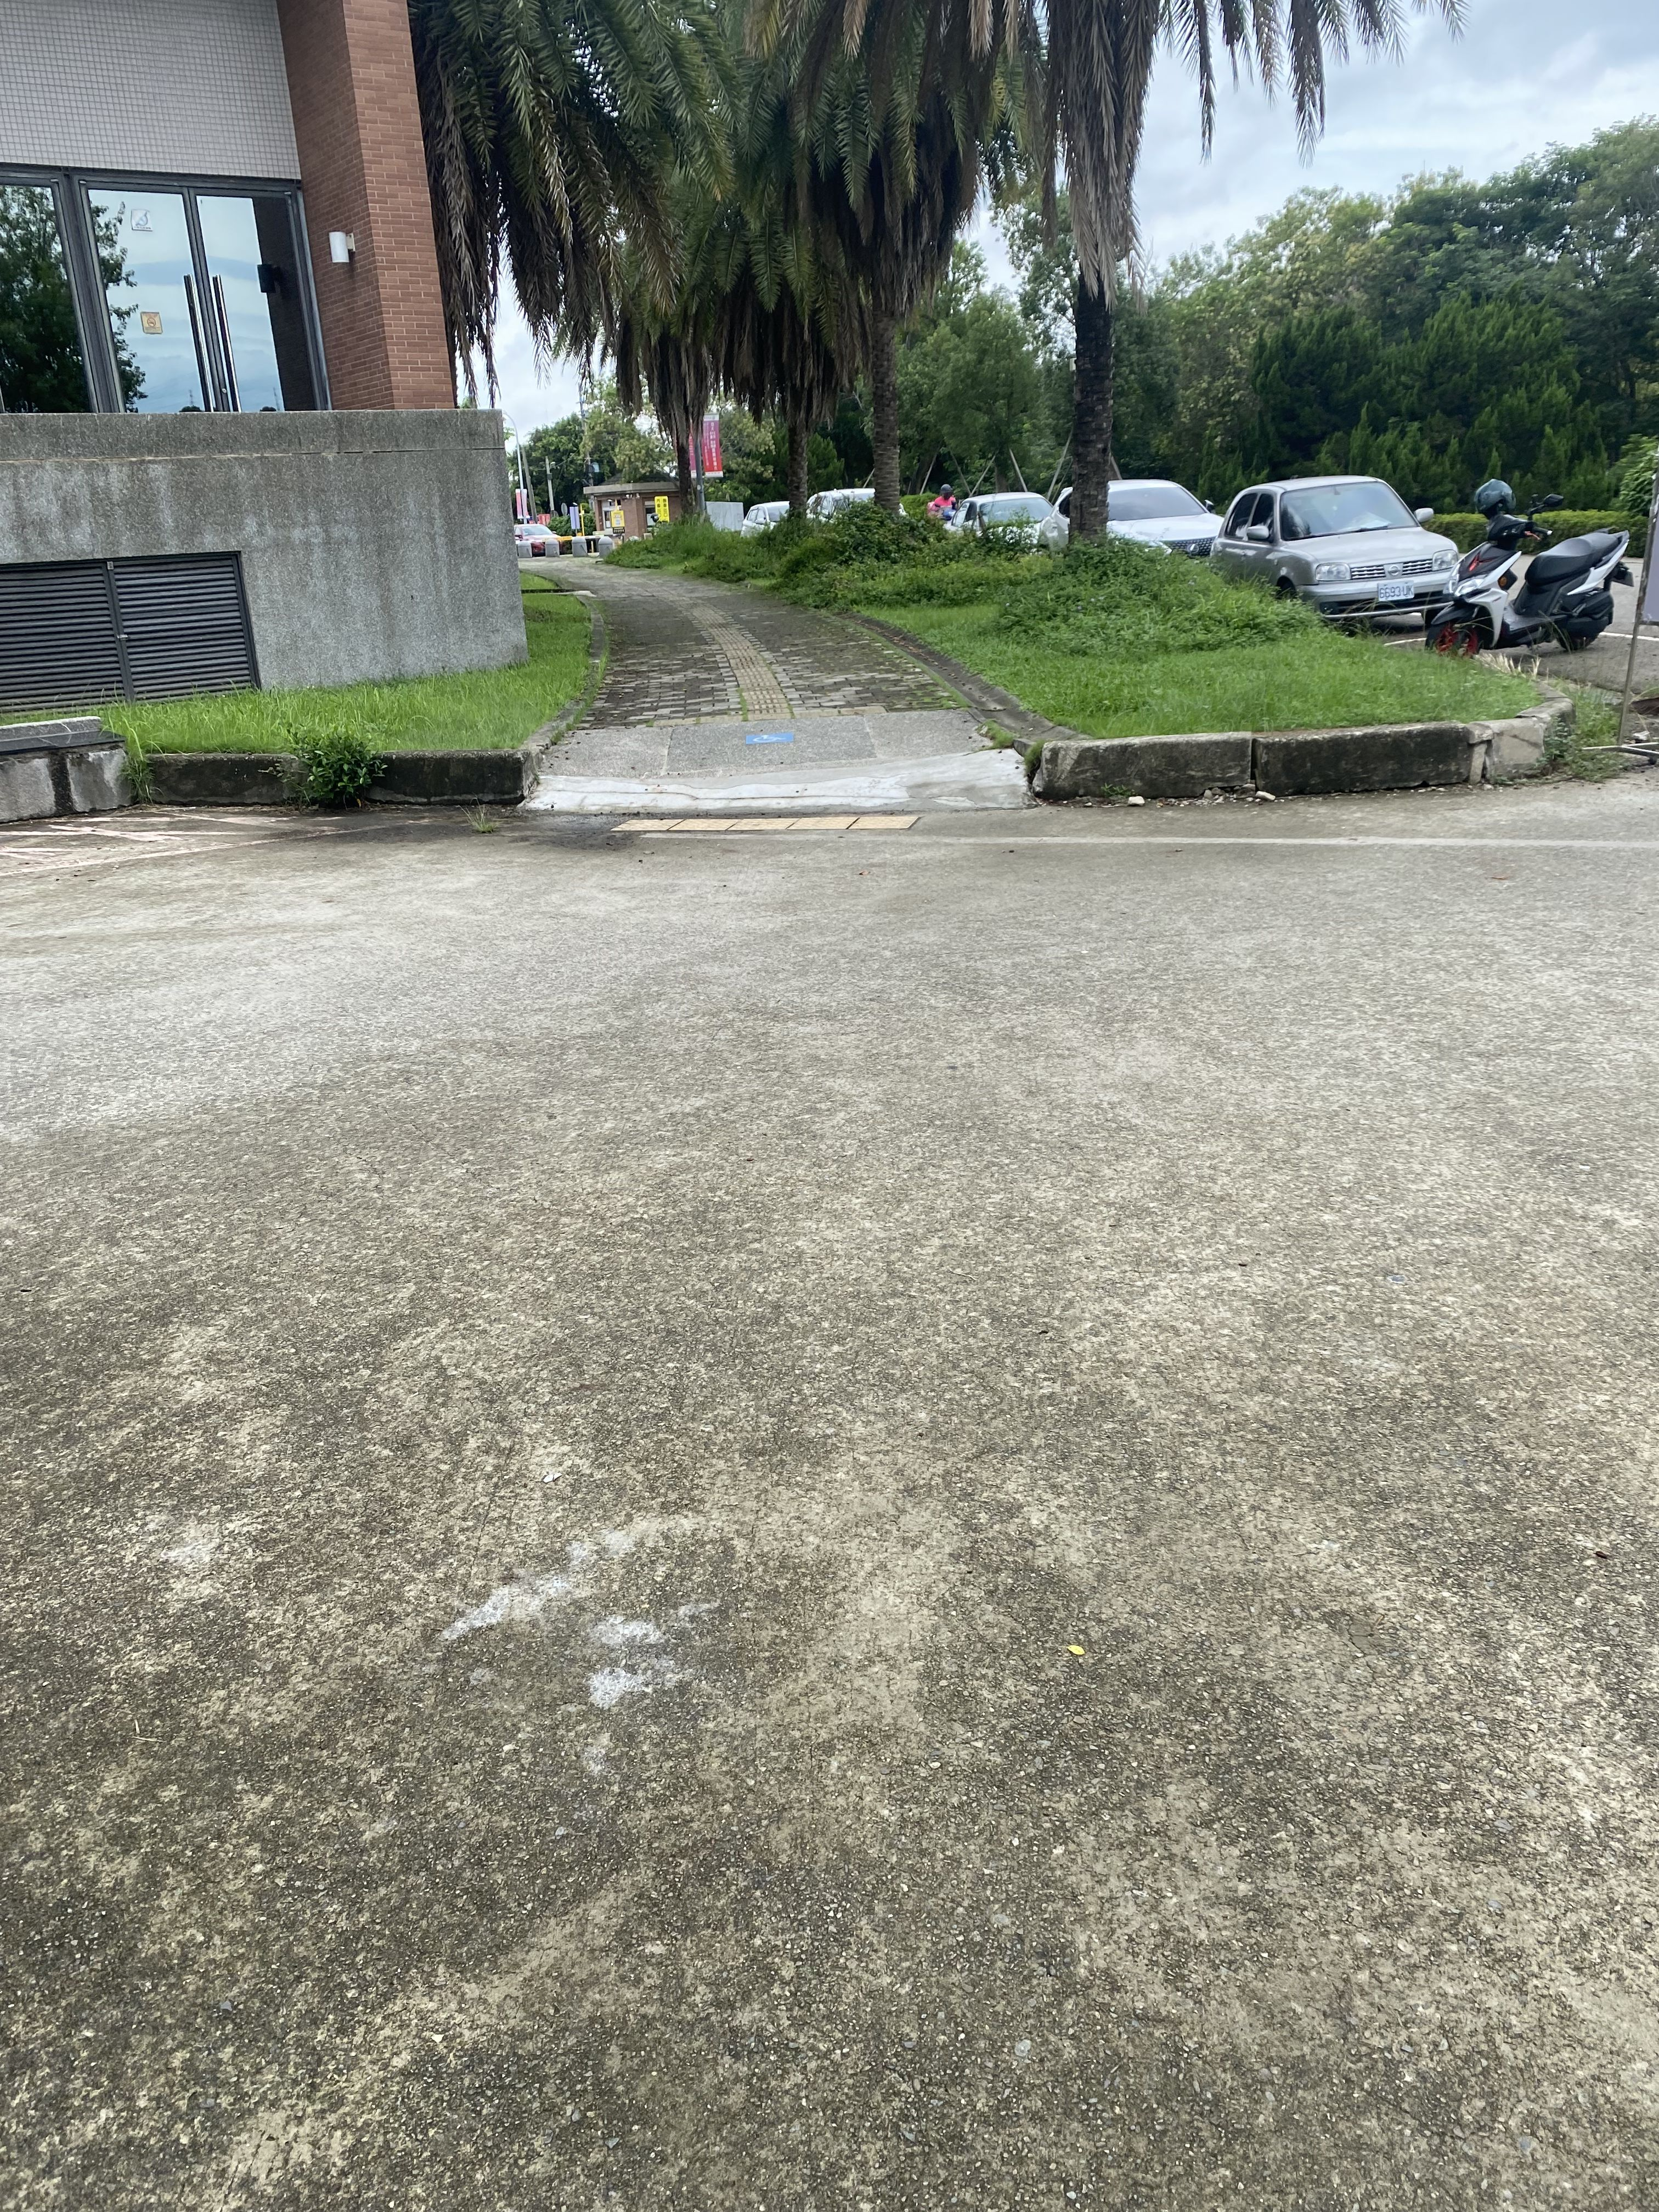sidewalk: (514, 545, 1145, 944)
